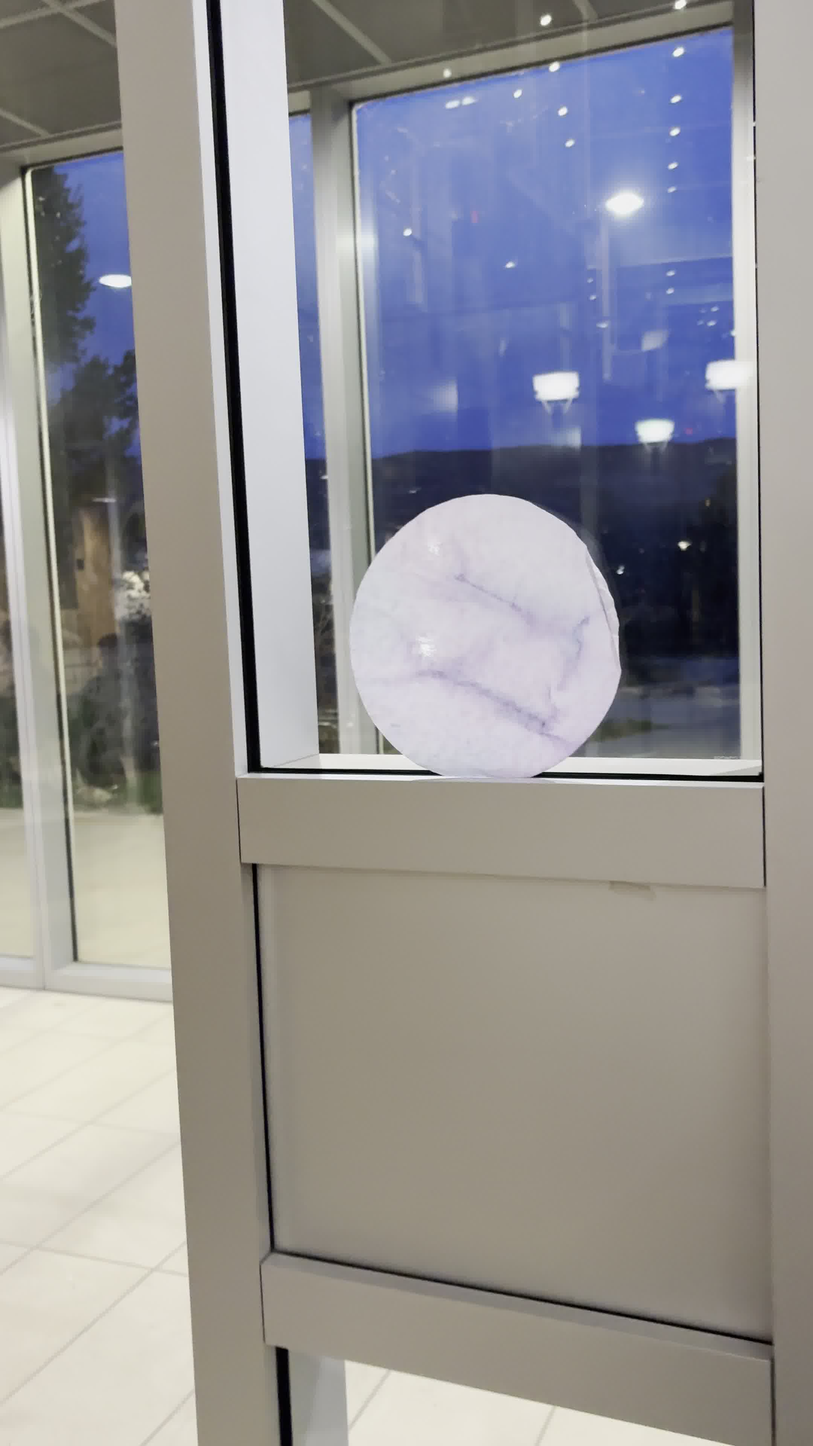Target: (349, 494, 622, 779)
